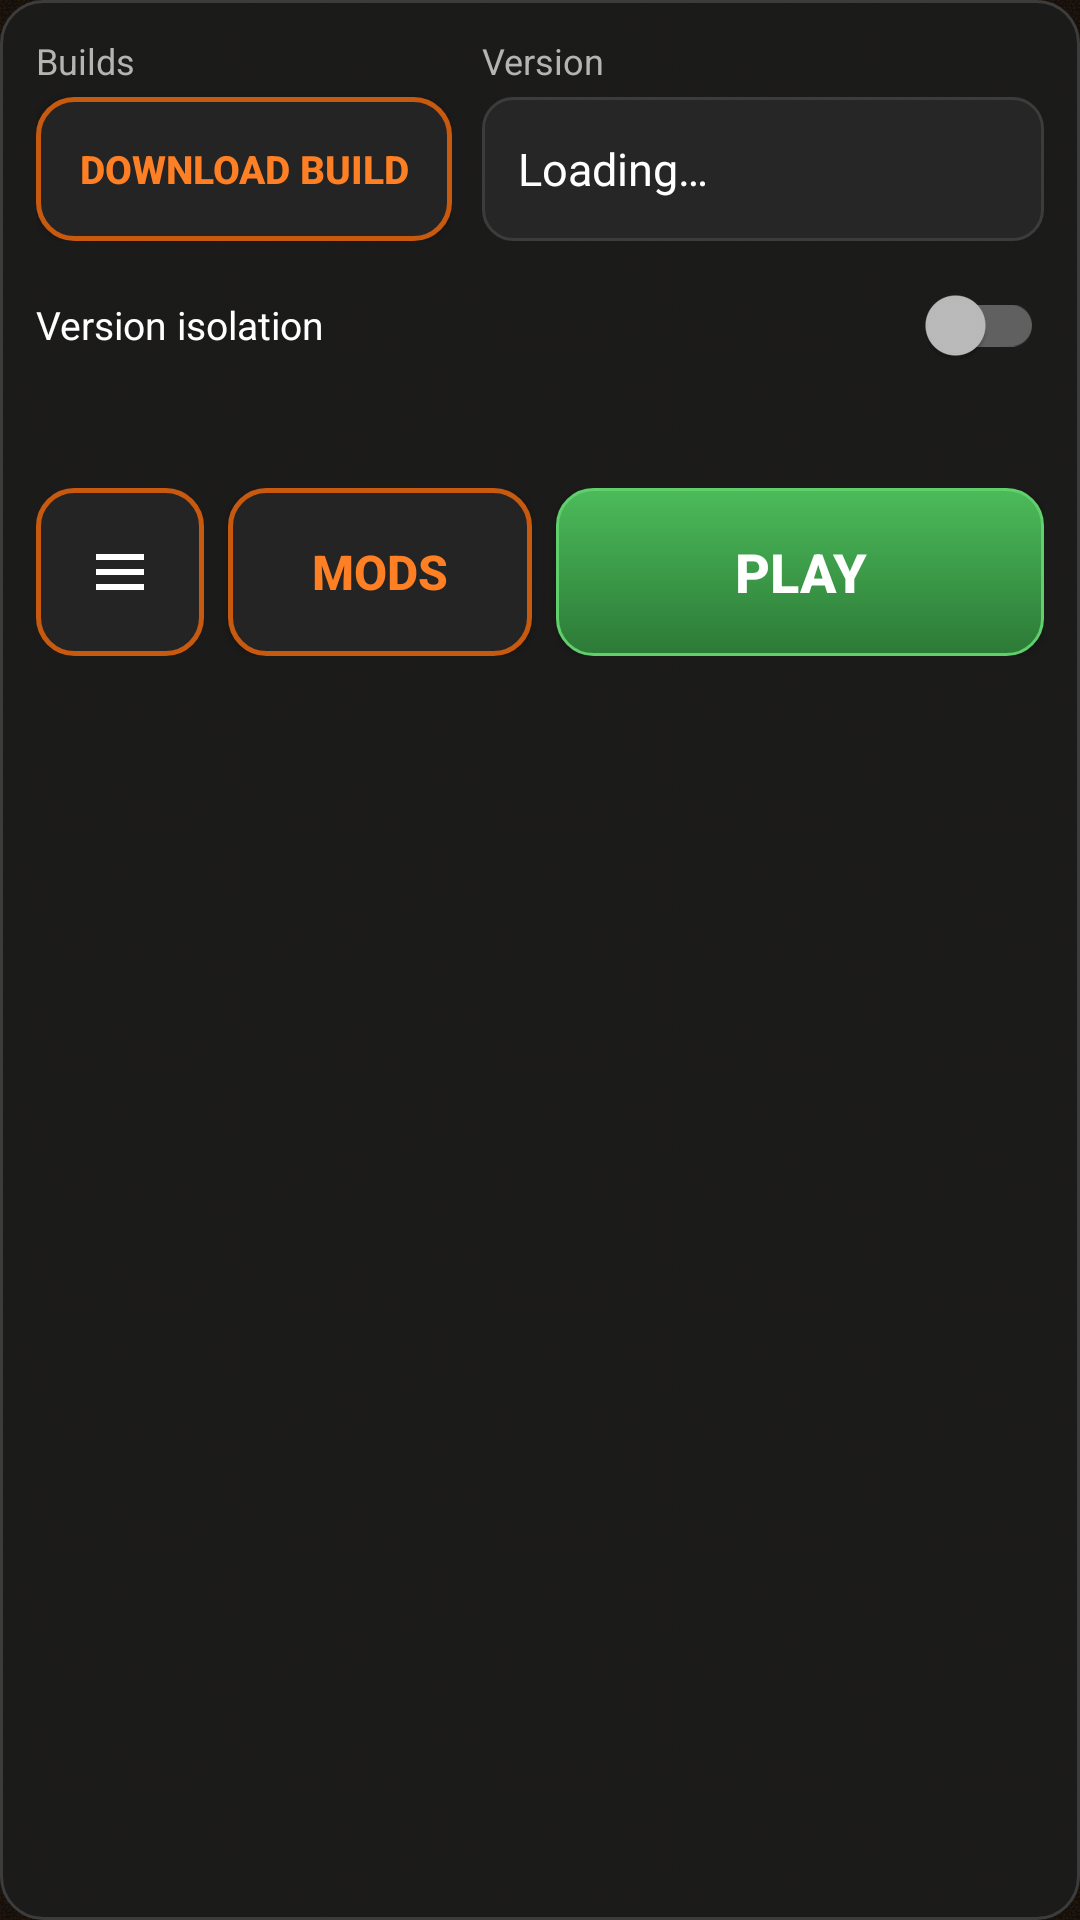

Named icons in this screenshot (1080w x 1920h) and their centers, (x,y):
More: (120,572)
